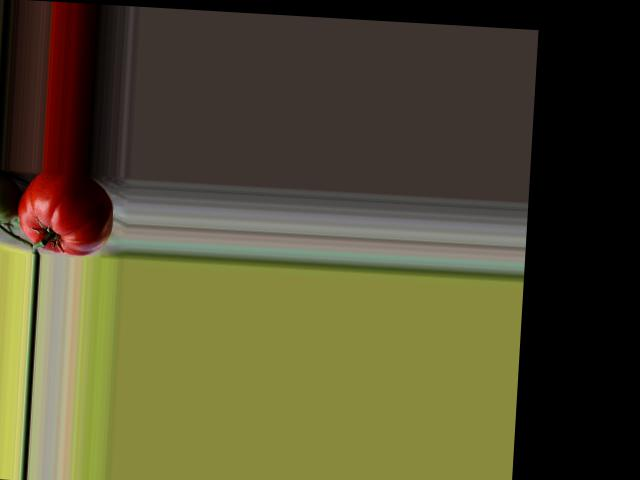tomato: (16, 169, 116, 257)
